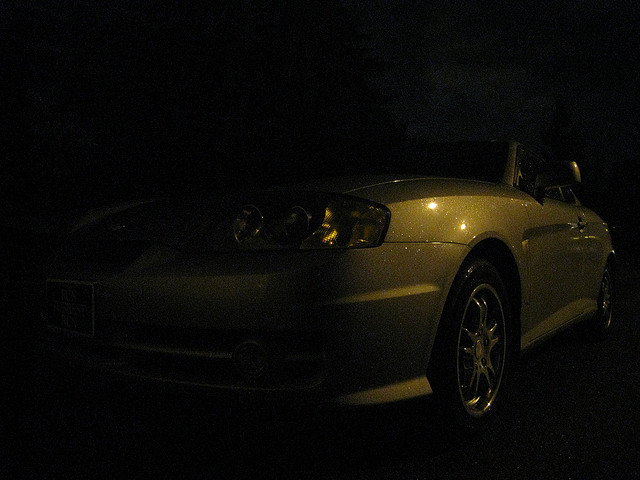car: (15, 130, 626, 432)
